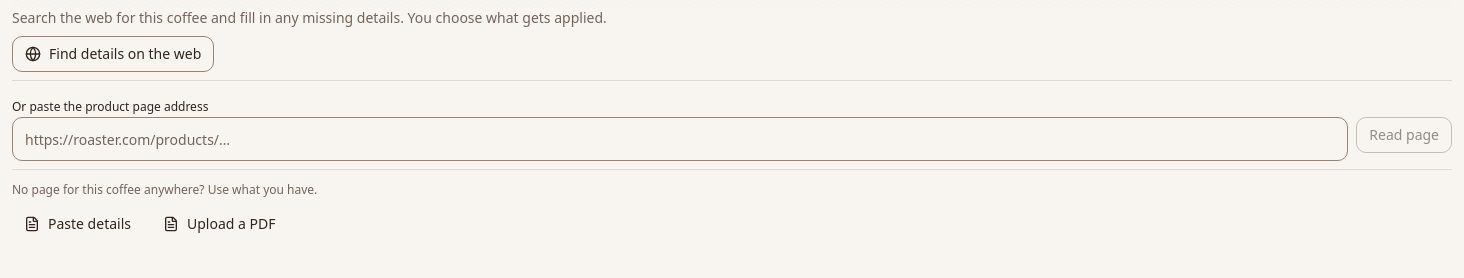
Test: EnrichPanel manual URL › returns to where it started when a pasted page cannot be read
Step 1. Click the field labelled "Or paste the product page address" → click(680, 139), box [12,117,1348,161]
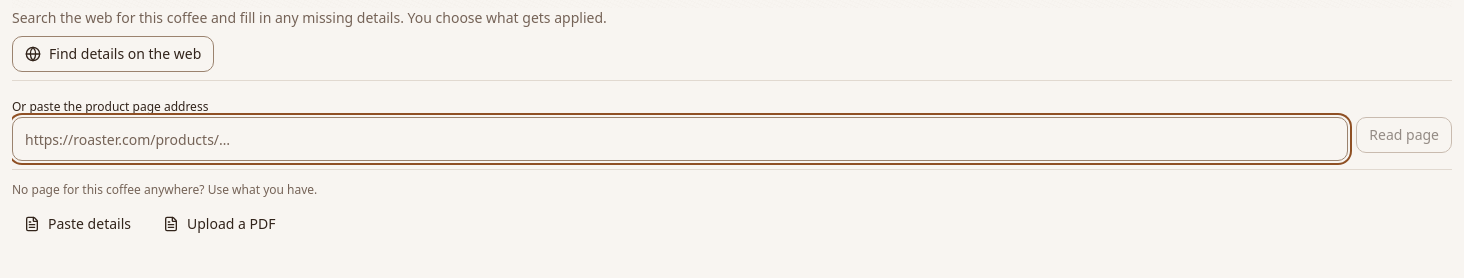
Step 2. Type keys "example.com/x"
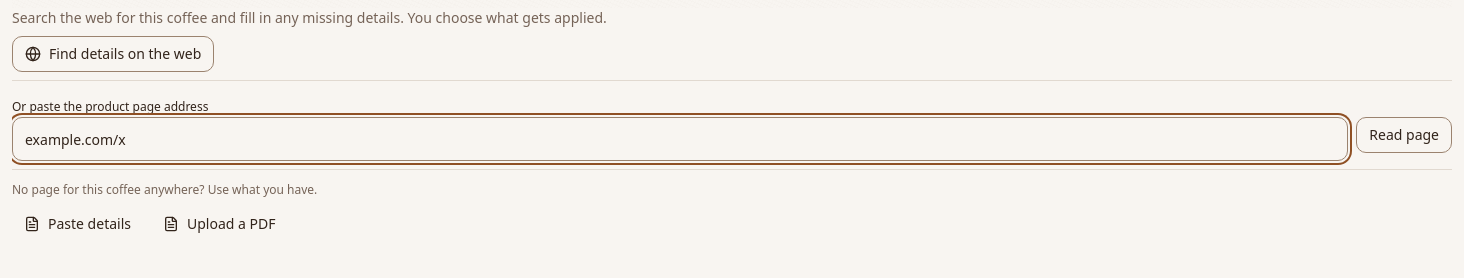
Step 3. Click the button "Read page" → click(1404, 135), box [1356,117,1452,153]
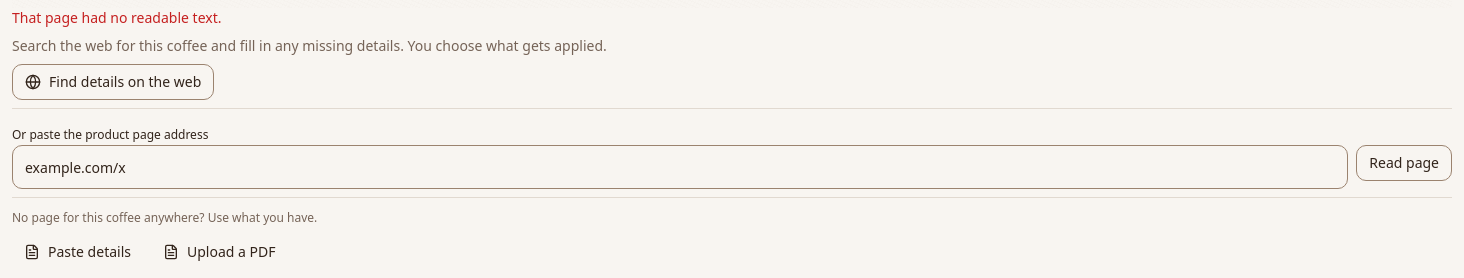
expect the button "Find details on the web" is shown: met, box [12,64,214,100]
expect the message shows "no readable text": met, box [12,8,222,27]
